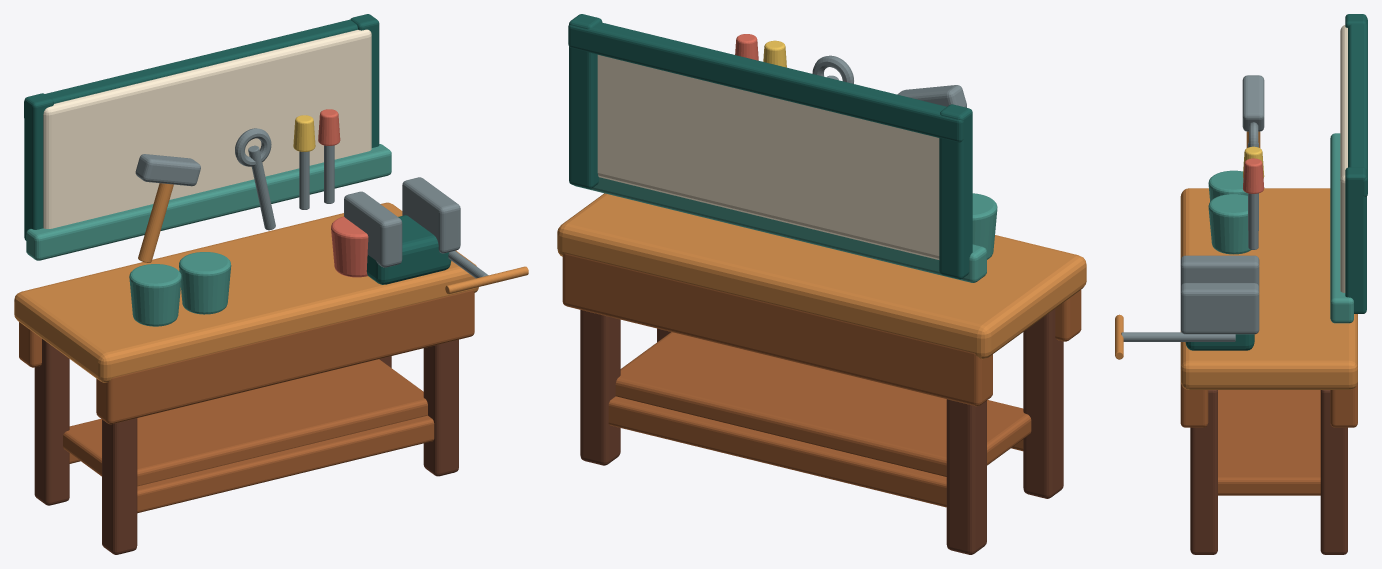
File: workbench.glb
3 views of the same model, side by side, from view 1: azimuth 30°, elevation 25°; view 2: azimuth 150°, elevation 25°; view 3: azimuth 270°, elevation 25° (orthographic). The views are drawn at different scales.
Parts seen in each view (by area): view 1: Pegboard, Worktop, Lower_Shelf, Worktop_Apron_Front, Rear_Tool_Rail, Lower_Brace_Front, Leg_-0.91_0.33, Leg_-0.91_-0.33, Leg_0.91_-0.33, Pegboard_Back_Frame, Tool_Container_1, Vise_Moving_Jaw (+16 smaller); view 2: Pegboard, Worktop, Lower_Shelf, Worktop_Apron_Back, Pegboard_Back_Frame, Lower_Brace_Back, Leg_-0.91_-0.33, Leg_-0.91_0.33, Rear_Tool_Rail, Leg_0.91_0.33, Pegboard_Side_Frame, Pegboard_Side_Frame.001 (+3 smaller); view 3: Worktop, Lower_Shelf, Vise_Moving_Jaw, Leg_0.91_0.33, Leg_0.91_-0.33, Pegboard_Back_Frame, Pegboard_Side_Frame.001, Rear_Tool_Rail, Vise_Fixed_Jaw, Tool_Container_2, Pegboard, Hammer_Head (+8 smaller).
Boxes of the visible parts, x1,y1,x2,y2 form: Pegboard: (43, 29, 371, 228); Worktop: (14, 202, 478, 382); Lower_Shelf: (63, 359, 427, 486); Worktop_Apron_Front: (96, 290, 474, 424); Rear_Tool_Rail: (26, 144, 391, 260); Lower_Brace_Front: (137, 415, 434, 513); Leg_-0.91_0.33: (34, 339, 69, 505); Leg_-0.91_-0.33: (102, 418, 137, 554); Leg_0.91_-0.33: (423, 339, 458, 476); Pegboard_Back_Frame: (24, 19, 357, 121); Tool_Container_1: (129, 264, 181, 326); Vise_Moving_Jaw: (402, 177, 460, 253); Pegboard: (597, 55, 939, 259); Worktop: (557, 193, 1086, 359); Lower_Shelf: (615, 332, 1031, 476); Worktop_Apron_Back: (562, 253, 992, 406); Pegboard_Back_Frame: (568, 22, 970, 142); Lower_Brace_Back: (608, 396, 946, 507); Leg_-0.91_-0.33: (1023, 309, 1063, 498); Leg_-0.91_0.33: (946, 399, 986, 554); Rear_Tool_Rail: (574, 177, 986, 282); Leg_0.91_0.33: (580, 310, 620, 465); Pegboard_Side_Frame: (939, 104, 972, 279); Pegboard_Side_Frame.001: (569, 14, 602, 188); Worktop: (1180, 188, 1357, 389); Lower_Shelf: (1218, 390, 1320, 495); Vise_Moving_Jaw: (1180, 283, 1259, 334); Leg_0.91_0.33: (1320, 390, 1347, 554); Leg_0.91_-0.33: (1190, 390, 1217, 554); Pegboard_Back_Frame: (1348, 17, 1367, 196); Pegboard_Side_Frame.001: (1345, 167, 1366, 313); Rear_Tool_Rail: (1330, 133, 1353, 323); Vise_Fixed_Jaw: (1180, 255, 1259, 286); Tool_Container_2: (1208, 194, 1251, 254); Pegboard: (1340, 25, 1347, 292); Hammer_Head: (1242, 75, 1264, 131).
Size of the model in its own units: 2.22 by 2.13 by 1.28.
